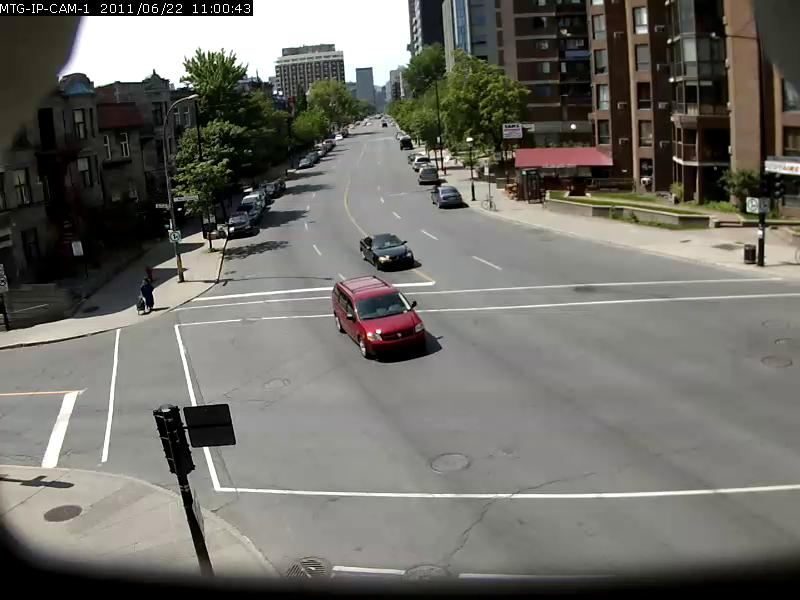Car: (330, 277, 429, 359), (360, 233, 414, 269)
